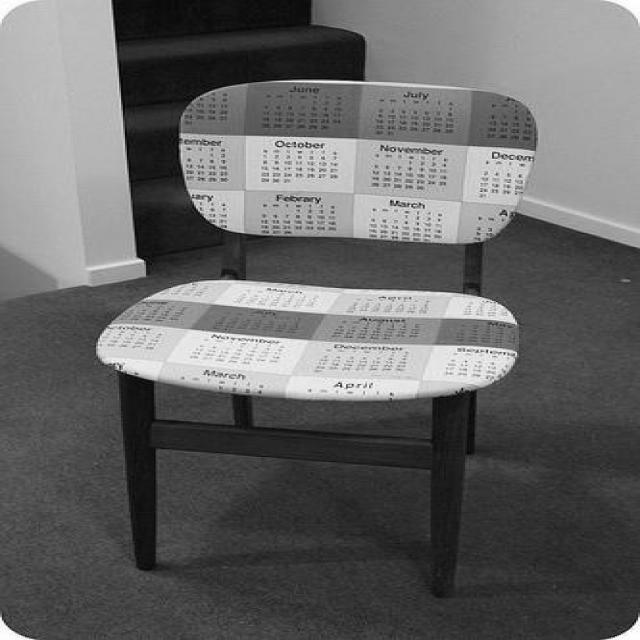chair: (99, 76, 542, 596)
